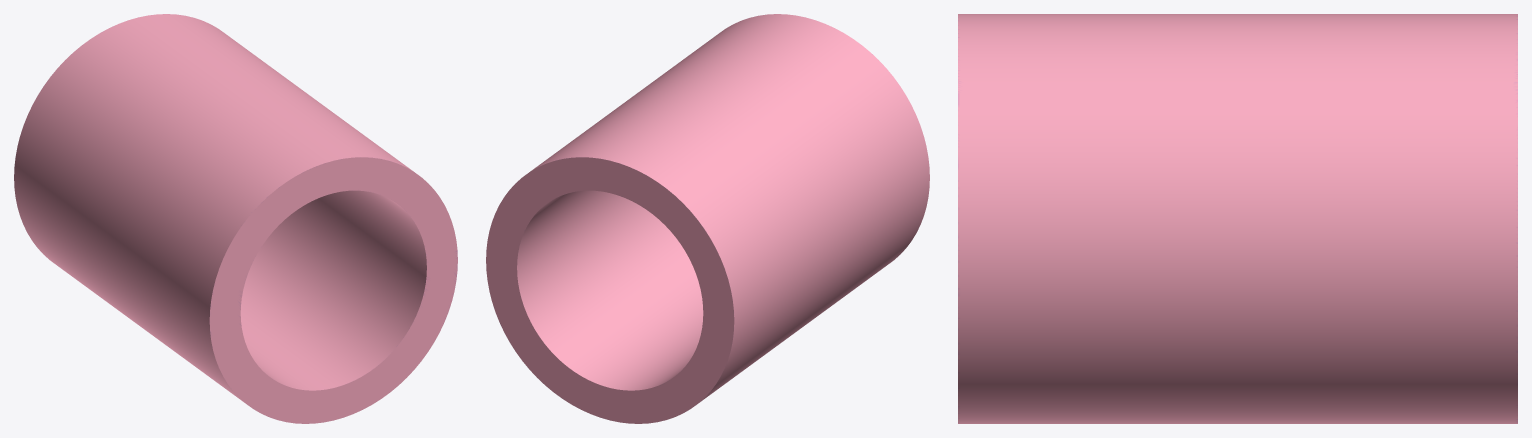
The model's file is Tunnels.fbx.
3 renders of one model, left to right at view 1: azimuth 30°, elevation 25°; view 2: azimuth 150°, elevation 25°; view 3: azimuth 270°, elevation 25°, orthographic. The views are drawn at different scales.
Visible parts, largest first — view 1: root; view 2: root; view 3: root.
Boxes of the visible parts, x1,y1,x2,y2 form: root: (14,14,457,423); root: (486,14,929,423); root: (958,14,1517,423).
Size of the model in its own units: 0.2256 by 0.2256 by 0.3079.
1 material, 1 textured.
